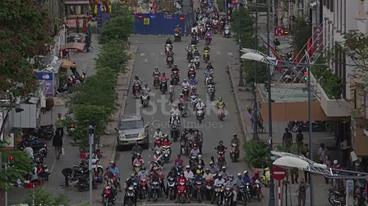car: (113, 117, 152, 150)
motorcycle: (176, 126, 206, 159), (75, 168, 99, 191), (175, 177, 190, 204), (192, 176, 207, 203), (192, 101, 208, 126), (101, 183, 118, 206), (136, 174, 151, 200), (226, 141, 243, 162), (220, 182, 237, 203), (210, 180, 226, 202), (122, 183, 137, 206), (160, 141, 175, 163), (251, 177, 264, 202), (204, 81, 218, 103), (213, 145, 228, 165), (139, 86, 152, 109), (168, 121, 182, 142), (236, 183, 250, 204), (165, 176, 177, 200), (203, 177, 216, 198), (215, 104, 228, 123), (188, 89, 201, 108), (150, 180, 162, 200), (130, 81, 144, 97), (132, 159, 144, 176), (180, 83, 192, 99), (188, 151, 199, 168), (191, 51, 202, 68), (170, 68, 180, 86), (165, 51, 175, 69), (201, 47, 212, 63), (159, 77, 168, 95), (152, 73, 161, 91), (154, 147, 162, 167), (186, 67, 196, 82), (245, 180, 252, 199), (164, 40, 172, 54), (154, 134, 162, 146)
